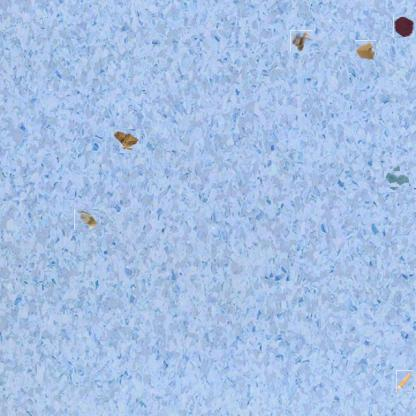dirty: (113, 129, 141, 153), (75, 208, 99, 231), (290, 30, 313, 53), (355, 40, 376, 62), (395, 371, 414, 390)
liquid: (393, 15, 415, 38), (386, 169, 406, 190)
